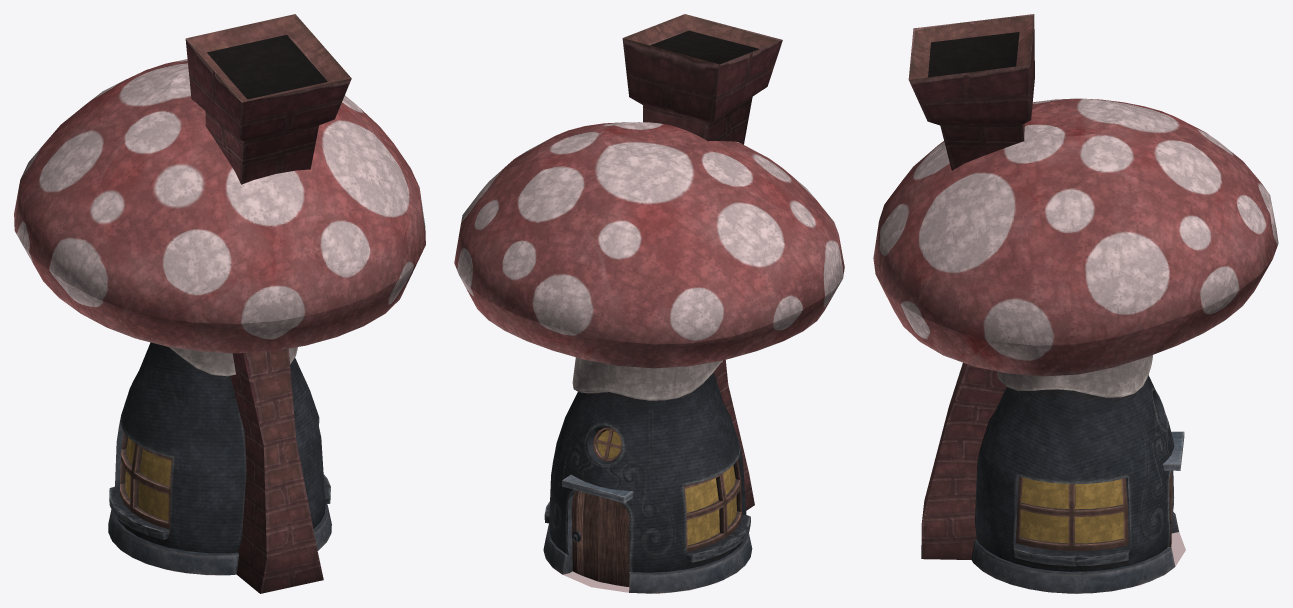
Rendered from HOS0110028.fbx.
3 renders of one model, left to right at view 1: azimuth 30°, elevation 25°; view 2: azimuth 150°, elevation 25°; view 3: azimuth 270°, elevation 25°, orthographic. The views are drawn at different scales.
Visible parts, largest first — view 1: smHOS0110028; view 2: smHOS0110028; view 3: smHOS0110028.
Part boxes in pixels (x1,y1,x2,y2): smHOS0110028: [14, 14, 425, 593]; smHOS0110028: [454, 14, 844, 593]; smHOS0110028: [873, 14, 1278, 593].
Bounding box in the file's own units: 867 × 1191 × 862.
Materials: 1 (1 with a texture image).
